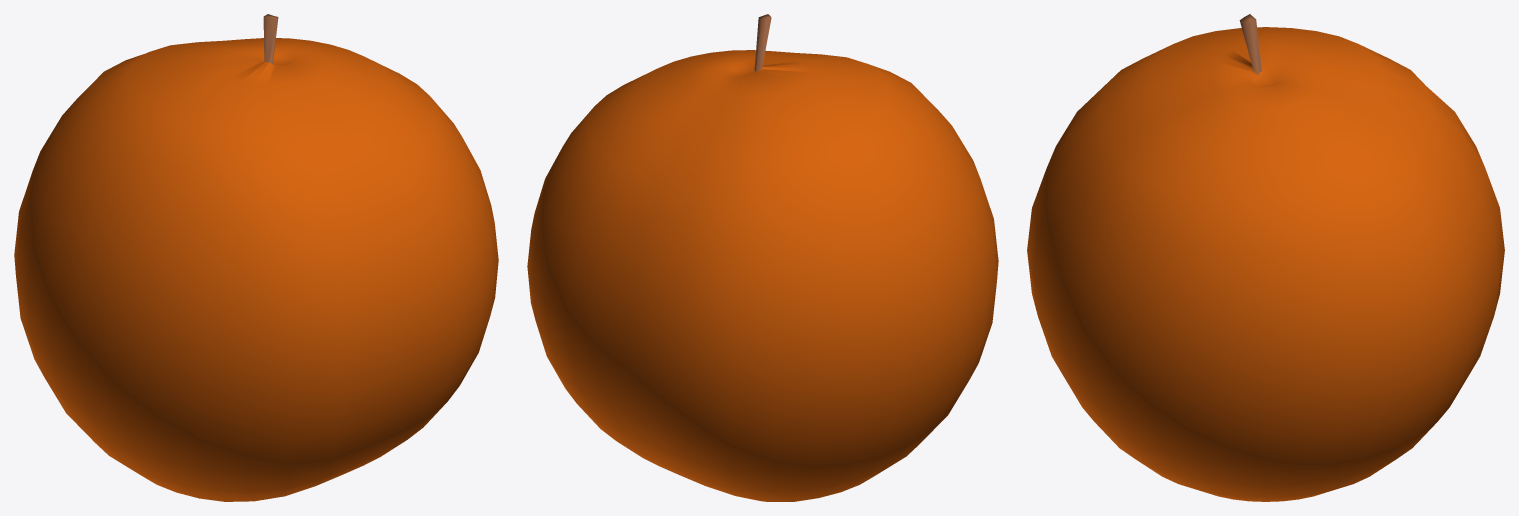
The model's file is orange.glb.
3 views of the same model, side by side, from view 1: azimuth 30°, elevation 25°; view 2: azimuth 150°, elevation 25°; view 3: azimuth 270°, elevation 25° (orthographic). The views are drawn at different scales.
Parts seen in each view (by area): view 1: Sphere.001; view 2: Sphere.001; view 3: Sphere.001.
Boxes of the visible parts, bbox=[...] form: Sphere.001: bbox=[14, 14, 498, 501]; Sphere.001: bbox=[527, 14, 998, 501]; Sphere.001: bbox=[1027, 14, 1504, 501].
Bounding box in the file's own units: 3.43 × 3.63 × 3.37.
